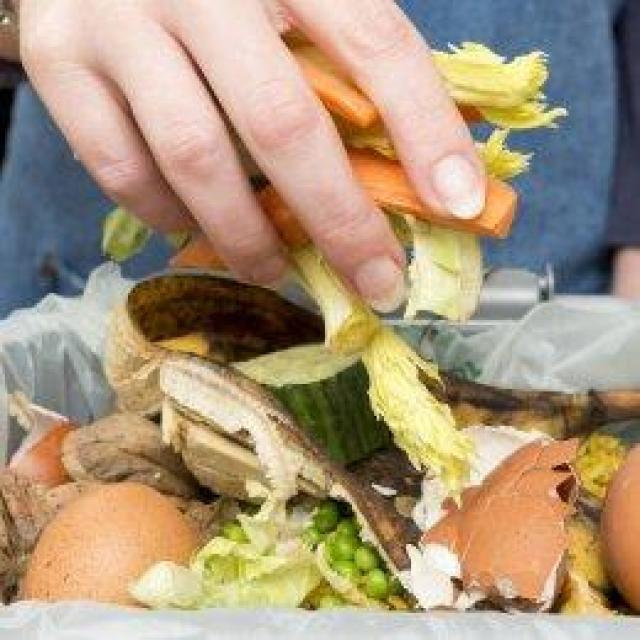Garbage: (2, 279, 640, 616)
